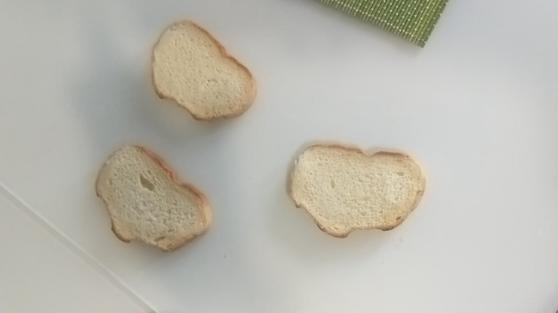white_bread: (289, 144, 425, 238), (97, 145, 213, 255), (149, 20, 256, 122)
